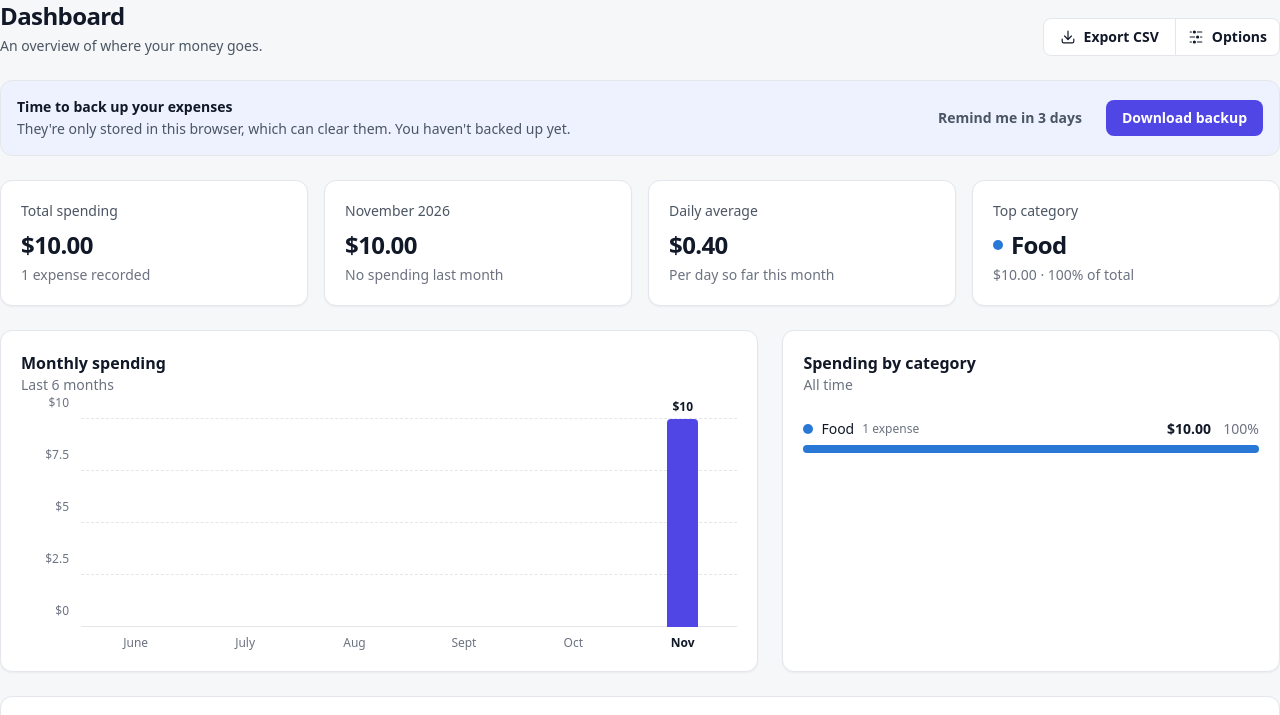
Test: DashboardView export › opens the full export dialog from the options button
The width and height of the screenshot is (1280, 715).
What coordinates should you click on to do the following:
click the button with aria-label "More export options"
I would click on:
 (1227, 37)
Its box is x1=1175 y1=18 x2=1279 y2=56.
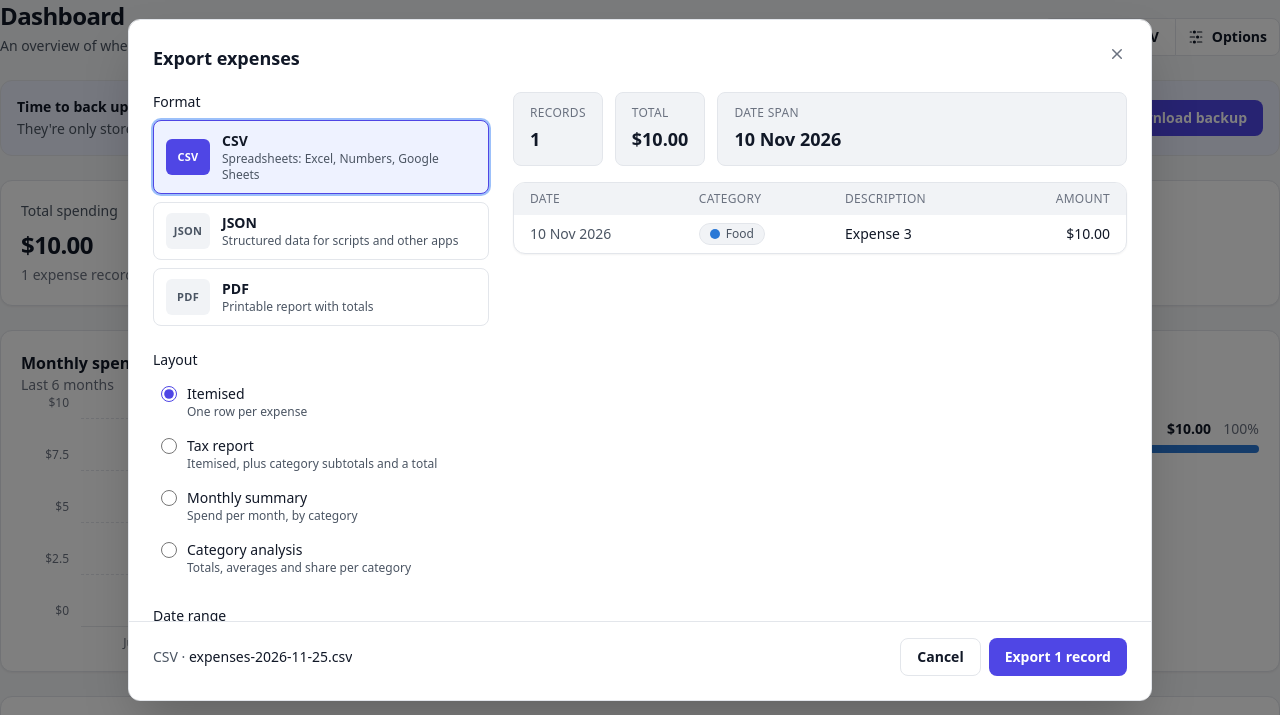
Check: the dialog "Export expenses" is shown
Check: the element named "Export summary" is shown, box x1=513 y1=92 x2=1127 y2=166
